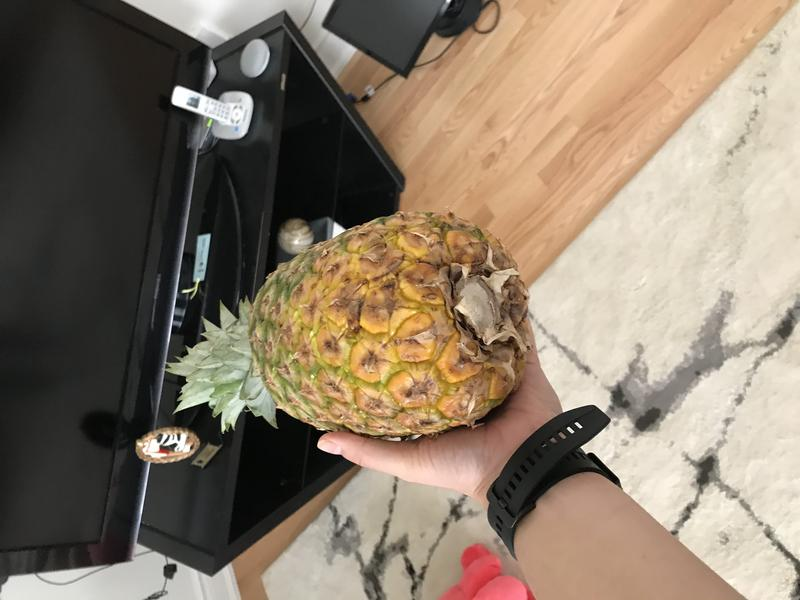pineapple: (158, 206, 534, 450)
